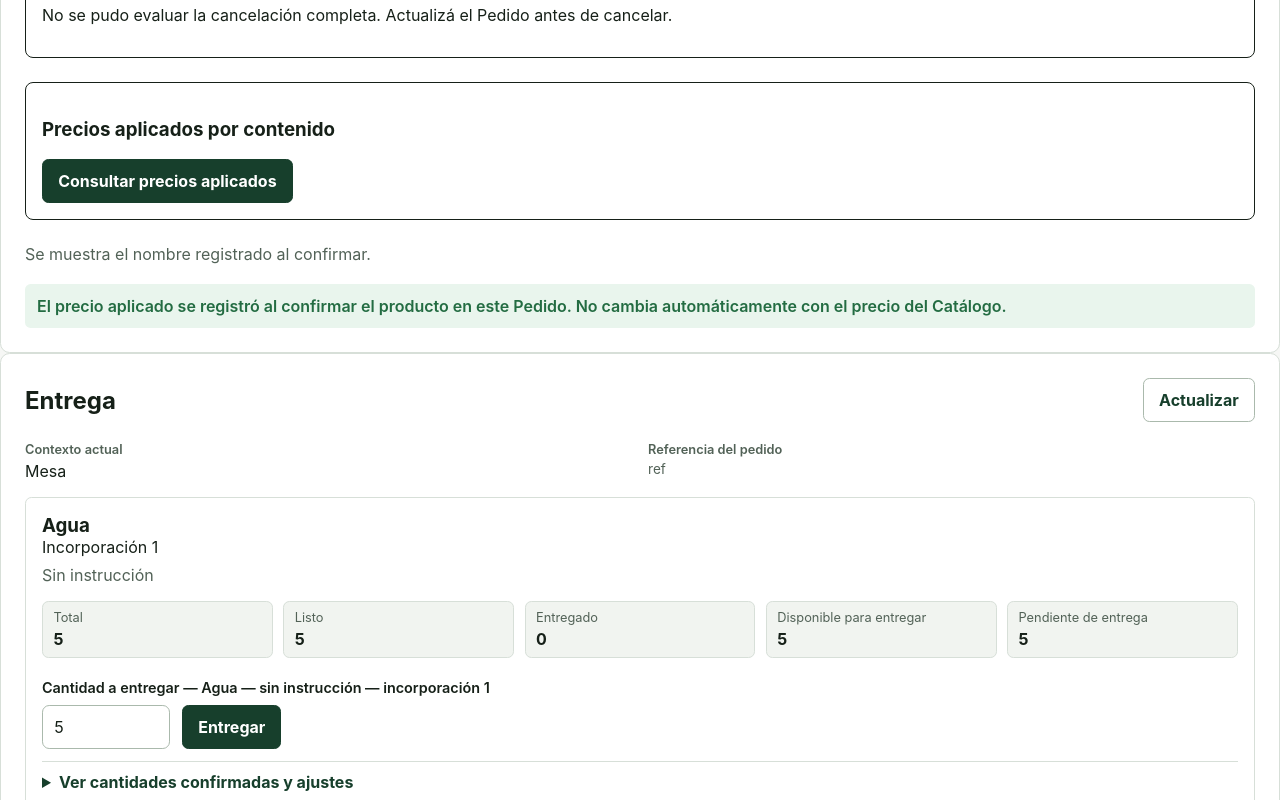
Scenario: offers explicit Correction only with effective delivery
(page scrolled)
Check: the button "Corregir entrega " is not shown
Click the button "Actualizar". click: (1199, 400)
box: x1=1143 y1=378 x2=1255 y2=422
(page scrolled)
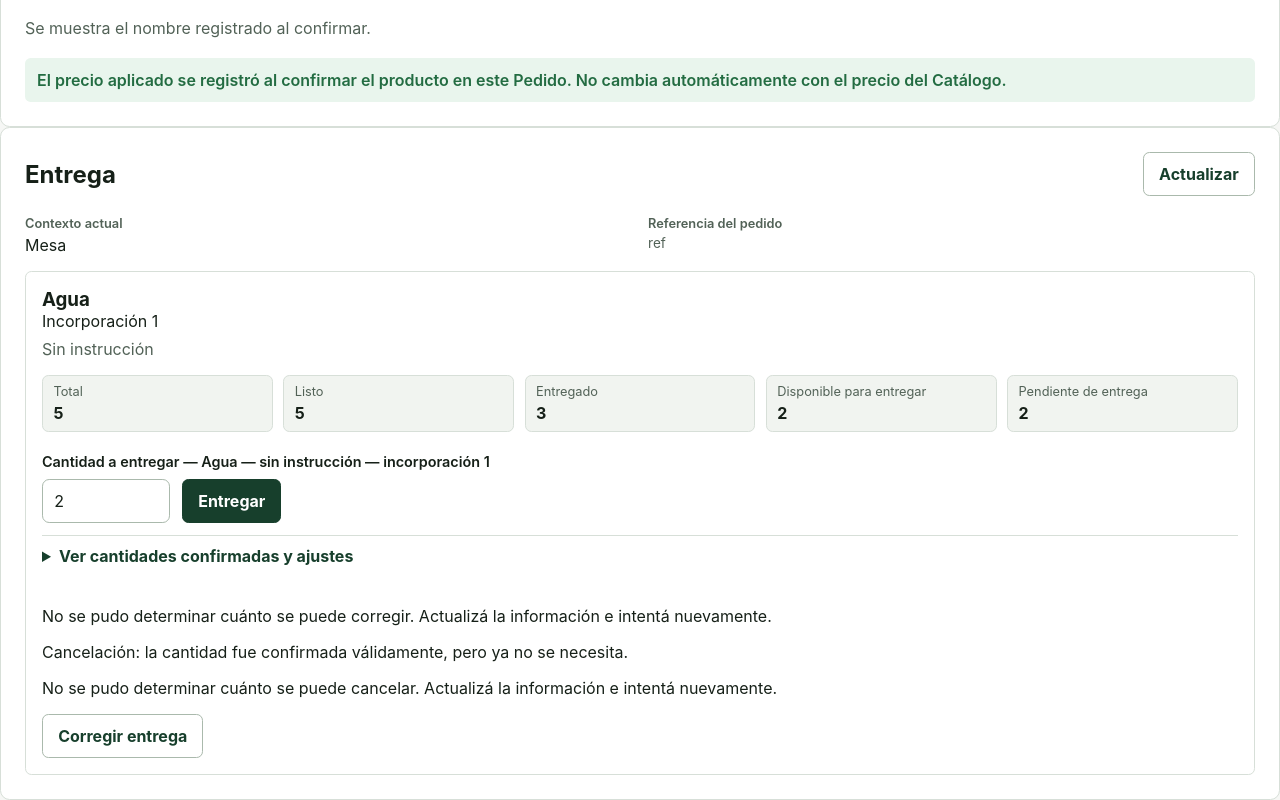
Check: the button "Corregir entrega " is enabled, box x1=42 y1=714 x2=204 y2=758
